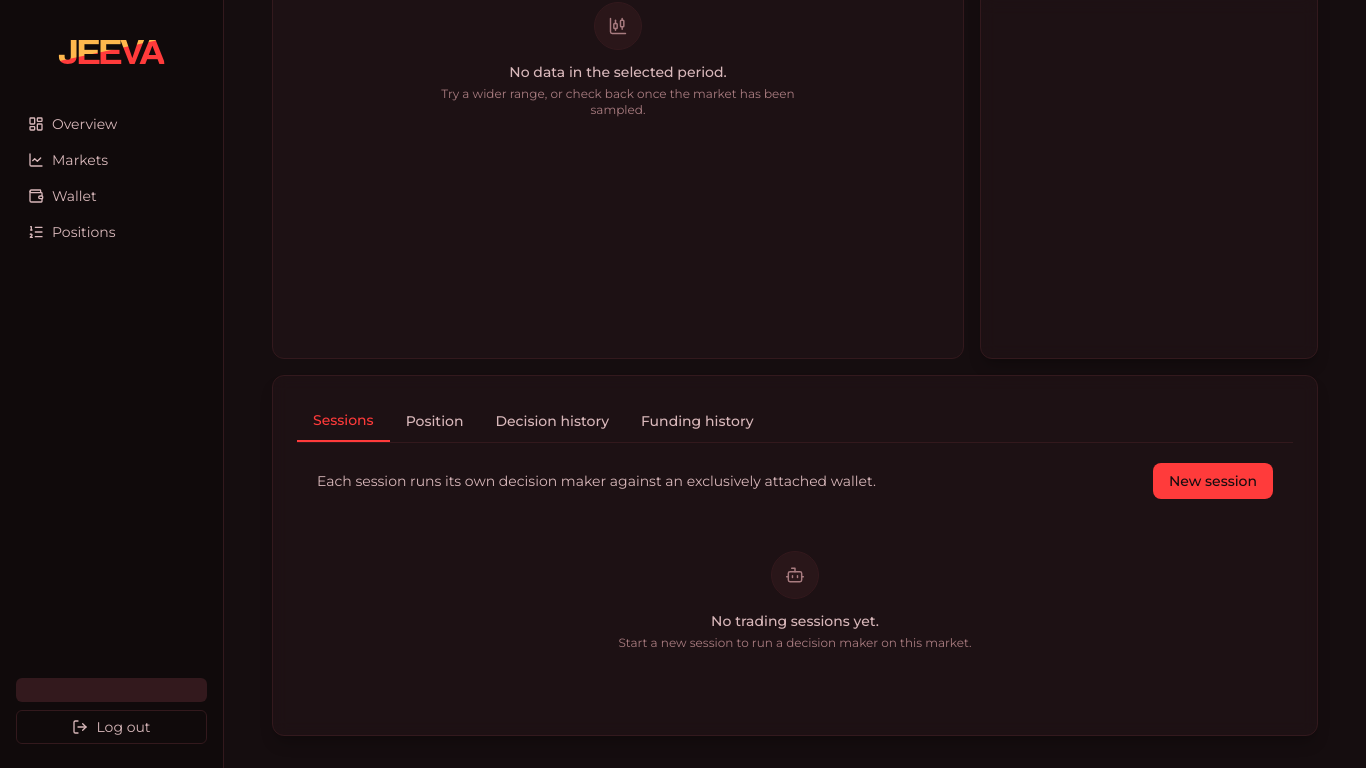
Test: MarketDataPage › shows no open position on the Position tab when the market is flat
(page scrolled)
Step 1. Click the button "Position" → x=434, y=420, box [390,400,479,442]
(page scrolled)
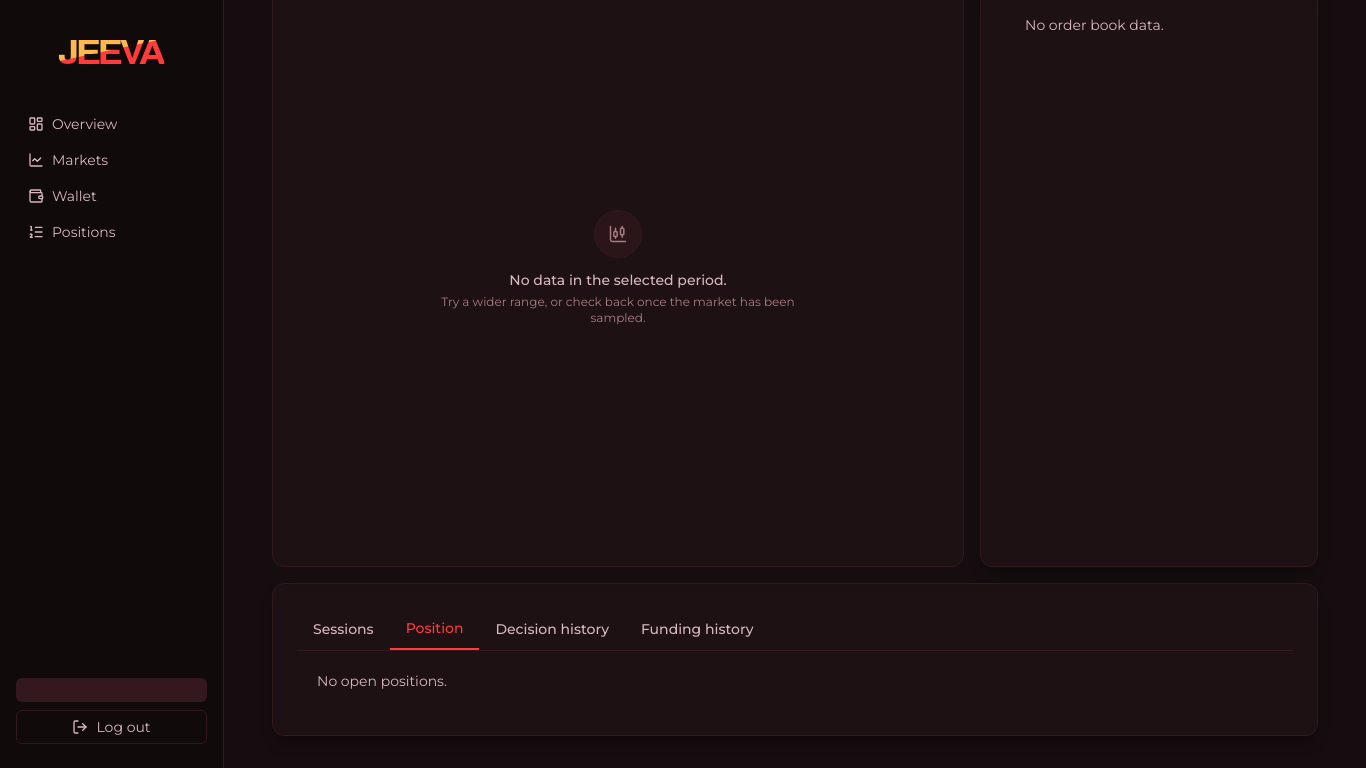
Expected: the text "No open positions." is shown, [317,672,447,690]
